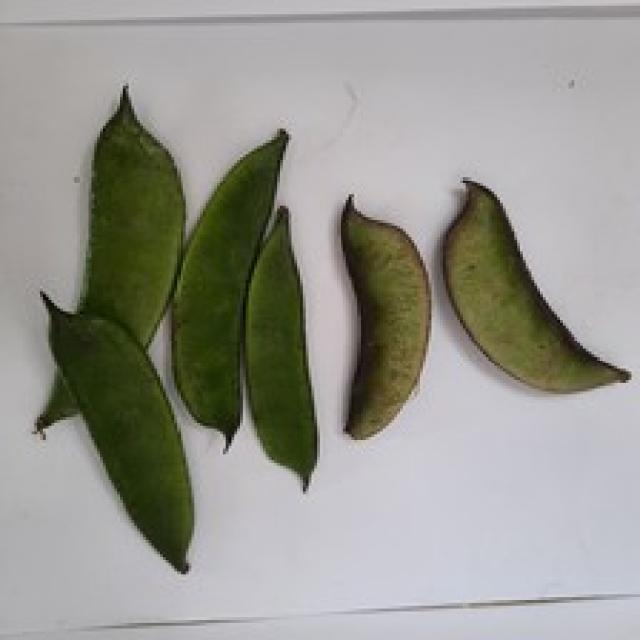Bean: (440, 174, 629, 394), (168, 126, 288, 451), (337, 191, 432, 440), (243, 203, 317, 491)
